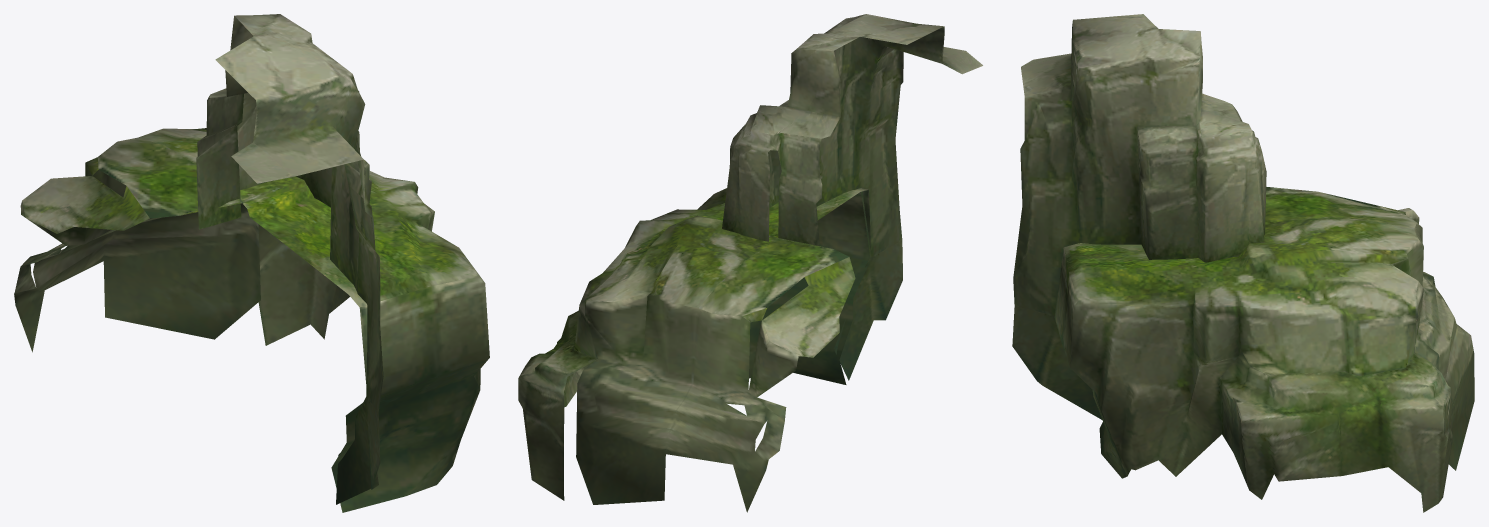
Rendered from S_Rock_Green055_H1.FBX.
3 renders of one model, left to right at view 1: azimuth 30°, elevation 25°; view 2: azimuth 150°, elevation 25°; view 3: azimuth 270°, elevation 25°, orthographic. The views are drawn at different scales.
Visible parts, largest first — view 1: S_Rock_Green055_H1; view 2: S_Rock_Green055_H1; view 3: S_Rock_Green055_H1.
Part boxes in pixels (box(x1,y1,x2,y2)): S_Rock_Green055_H1: box(14, 14, 489, 512); S_Rock_Green055_H1: box(518, 14, 982, 512); S_Rock_Green055_H1: box(1012, 14, 1474, 512).
Bounding box in the file's own units: 958 × 1223 × 1297.
Materials: 1 (1 with a texture image).
